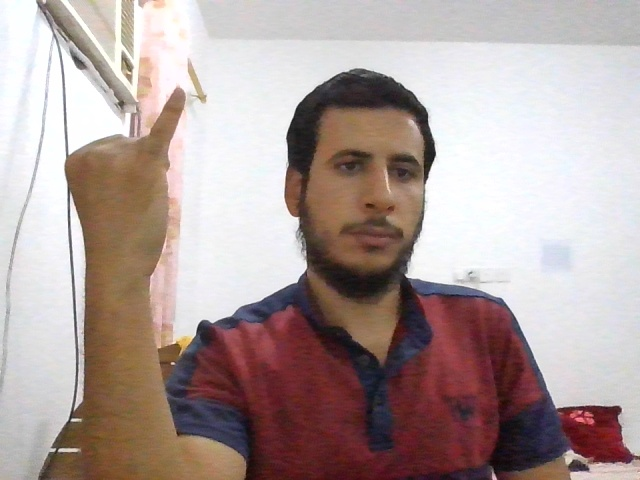One: (64, 87, 185, 267)
